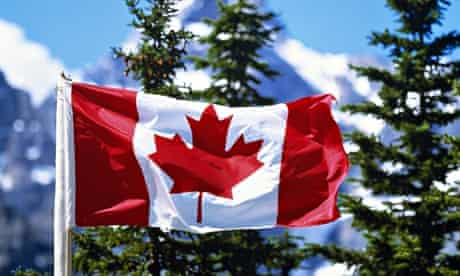Canada flag: (65, 79, 352, 232)
